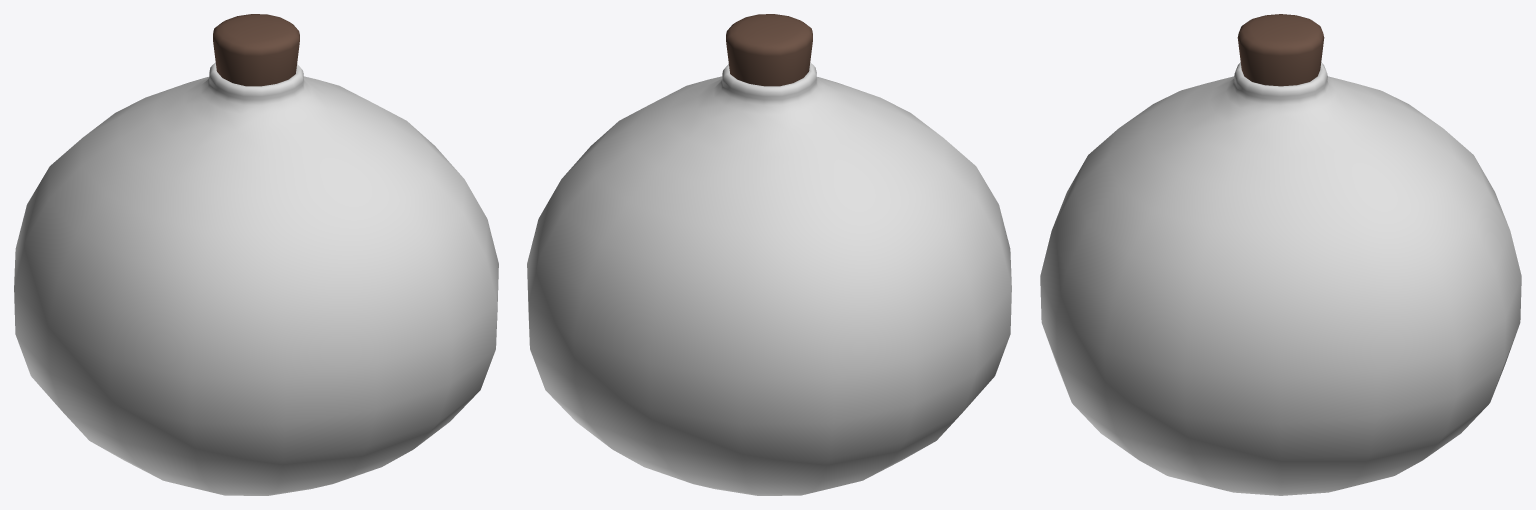
File: potion9_empty.glb
The picture shows the model from 3 angles, left to right: view 1: azimuth 30°, elevation 25°; view 2: azimuth 150°, elevation 25°; view 3: azimuth 270°, elevation 25°; orthographic projection.
Visible parts, largest first — view 1: Potion9_Empty; view 2: Potion9_Empty; view 3: Potion9_Empty.
Boxes of the visible parts, <box> form: Potion9_Empty: <box>14,14,498,495</box>; Potion9_Empty: <box>527,14,1011,495</box>; Potion9_Empty: <box>1040,14,1521,495</box>.
Bounding box in the file's own units: 1.26 × 1.29 × 1.26.
